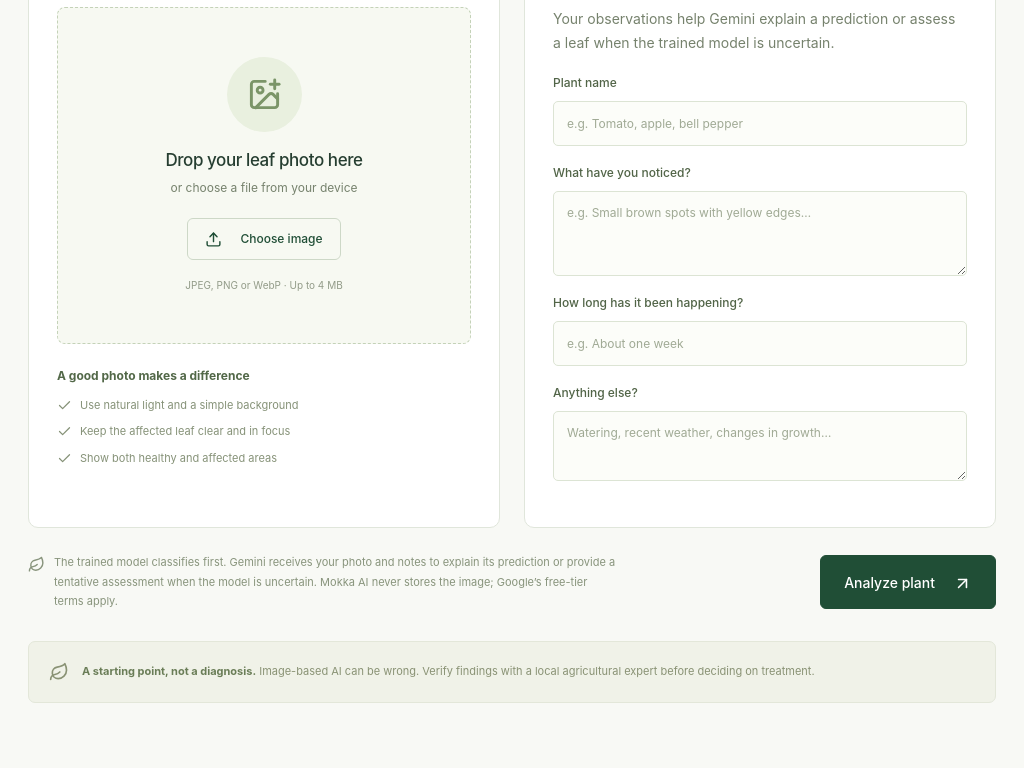
Test: shows accessible validation when submitted without a photo
(page scrolled)
Step 1. Click the button "Analyze plant" → (908, 582), box 820,555 -> 996,609
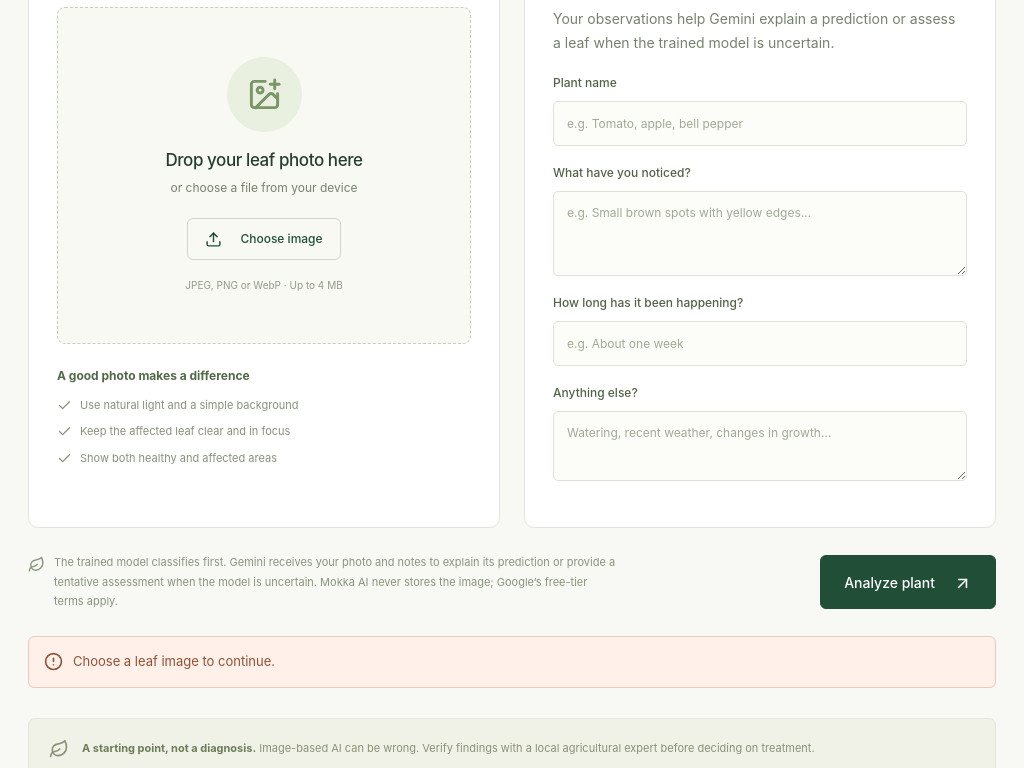
Now the message shows "Choose a leaf image", box 73,653 -> 275,669
